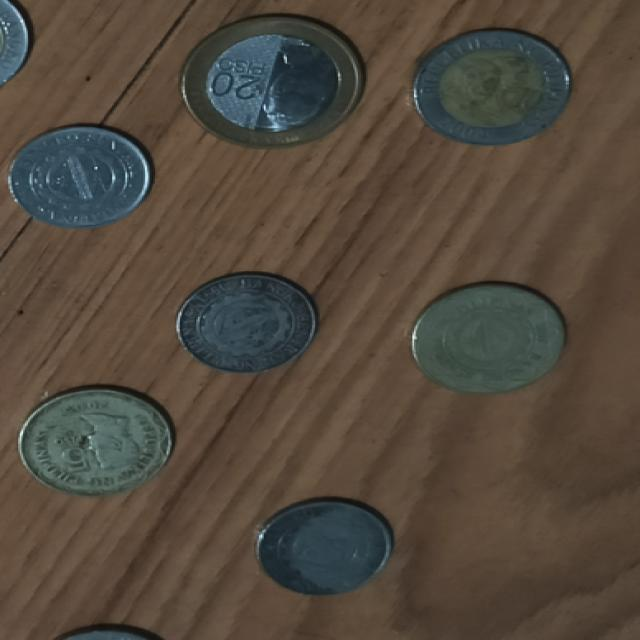10_peso: (414, 29, 569, 144)
1_peso: (176, 272, 317, 373), (8, 127, 150, 227), (256, 498, 393, 595)
20_peso: (181, 15, 363, 146)
5_peso: (18, 387, 172, 496), (414, 283, 564, 392)
